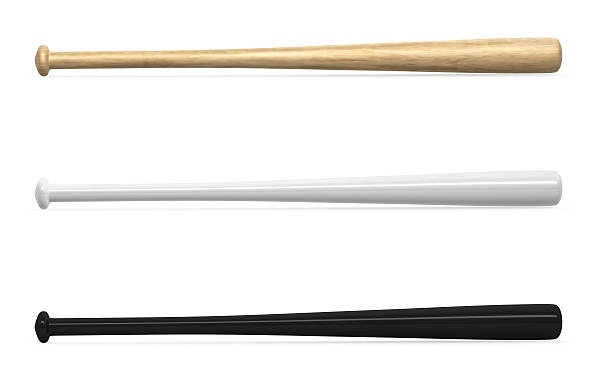bita: (28, 37, 567, 83), (28, 174, 567, 220), (30, 303, 569, 349)
